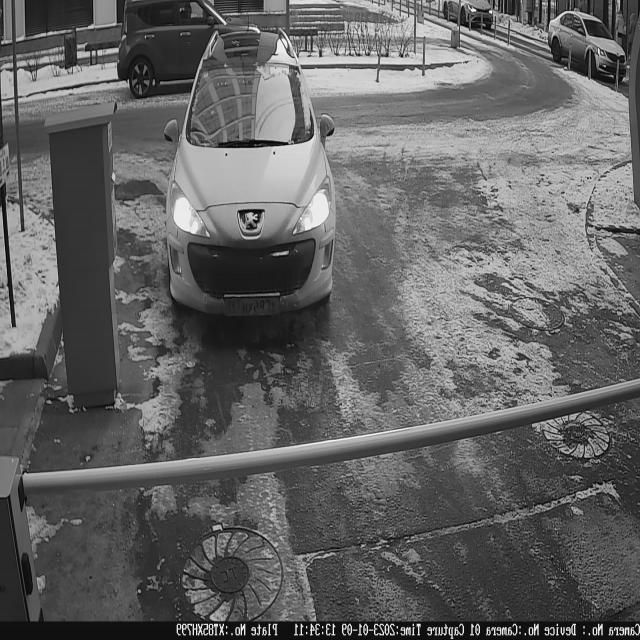car-plate-numbers: (222, 287, 286, 322)
